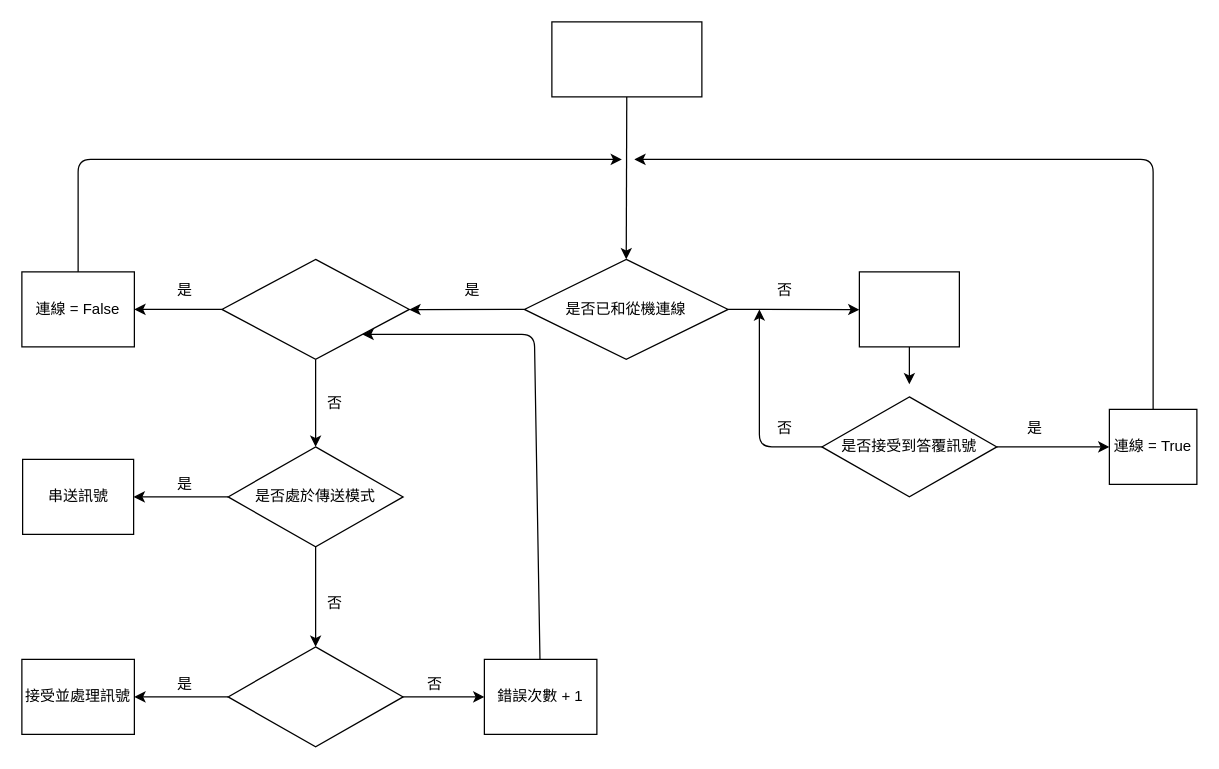
This 1219x769 diagram has some shape labels left out. The shapes that lost their labels are listed below. From the top down, each one's centre as x and y in pixels, then its label:
At point (626, 59): "開始".
At point (315, 308): "錯誤次數是否大於三".
At point (908, 309): "發送詢問訊號".
At point (315, 696): "是否接收訊號".
